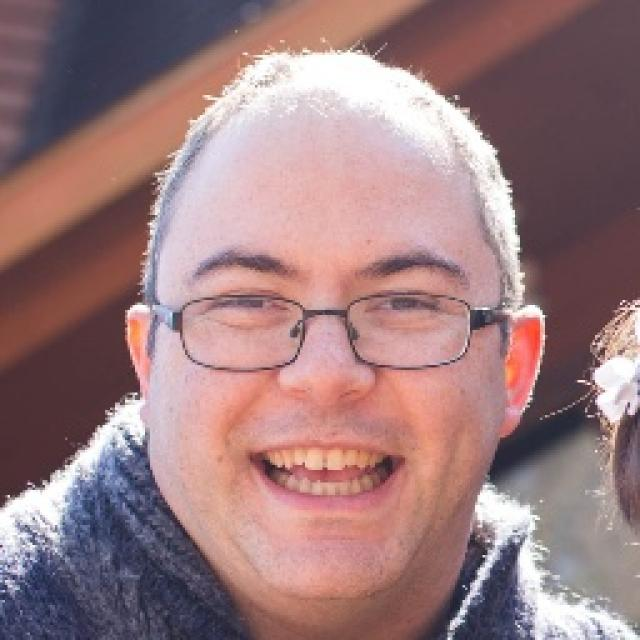earlobe: (497, 306, 546, 438), (123, 304, 151, 428)
